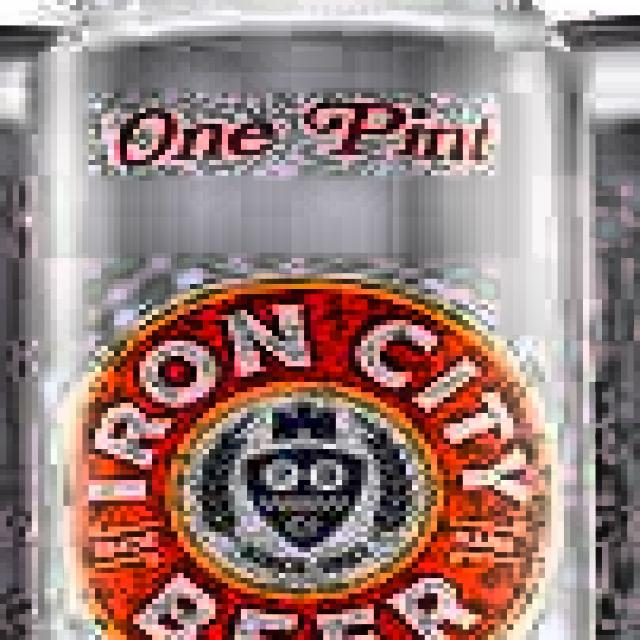metal: (6, 0, 608, 640)
